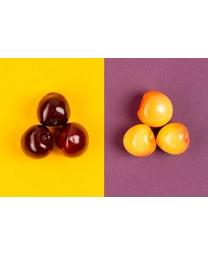cherry: (137, 90, 173, 127), (156, 122, 190, 156), (55, 124, 90, 157), (21, 125, 53, 159), (37, 93, 70, 124), (123, 124, 156, 155)
